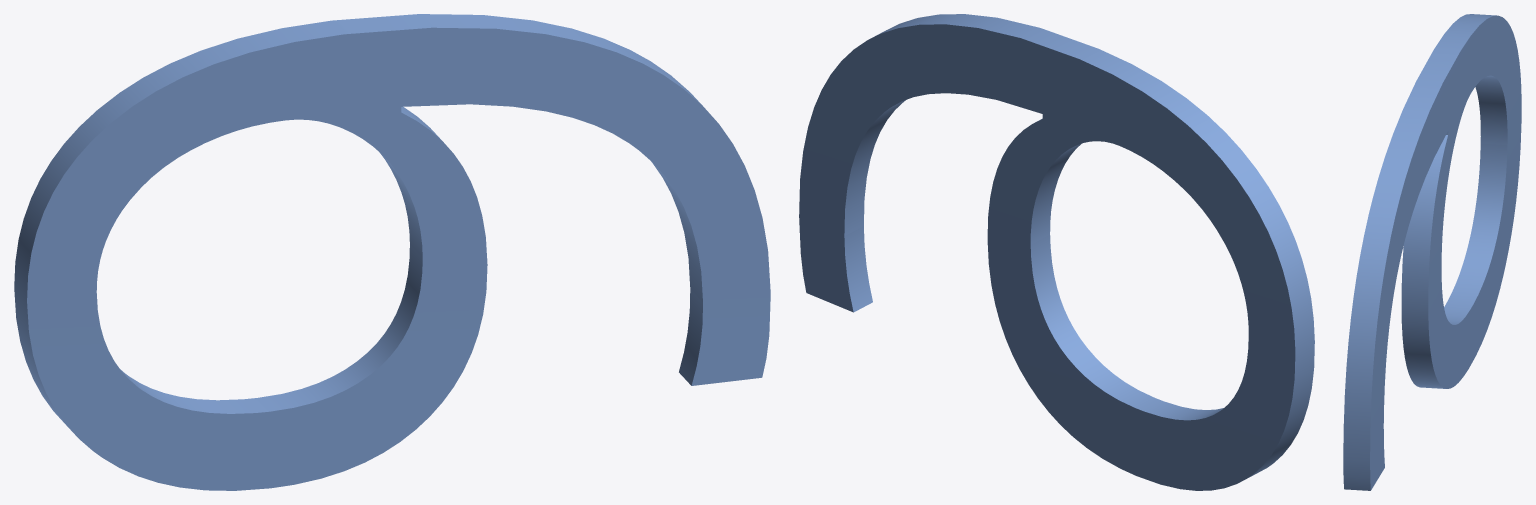
File: New_Number_6.gltf
The picture shows the model from 3 angles, left to right: view 1: azimuth 30°, elevation 25°; view 2: azimuth 150°, elevation 25°; view 3: azimuth 270°, elevation 25°; orthographic projection. The views are drawn at different scales.
Parts seen in each view (by area): view 1: Part 168; view 2: Part 168; view 3: Part 168.
Boxes of the visible parts, <box> form: Part 168: <box>14,14,770,490</box>; Part 168: <box>799,14,1314,490</box>; Part 168: <box>1343,14,1521,490</box>.
Size of the model in its own units: 0.00553 by 0.00358 by 0.00169.
